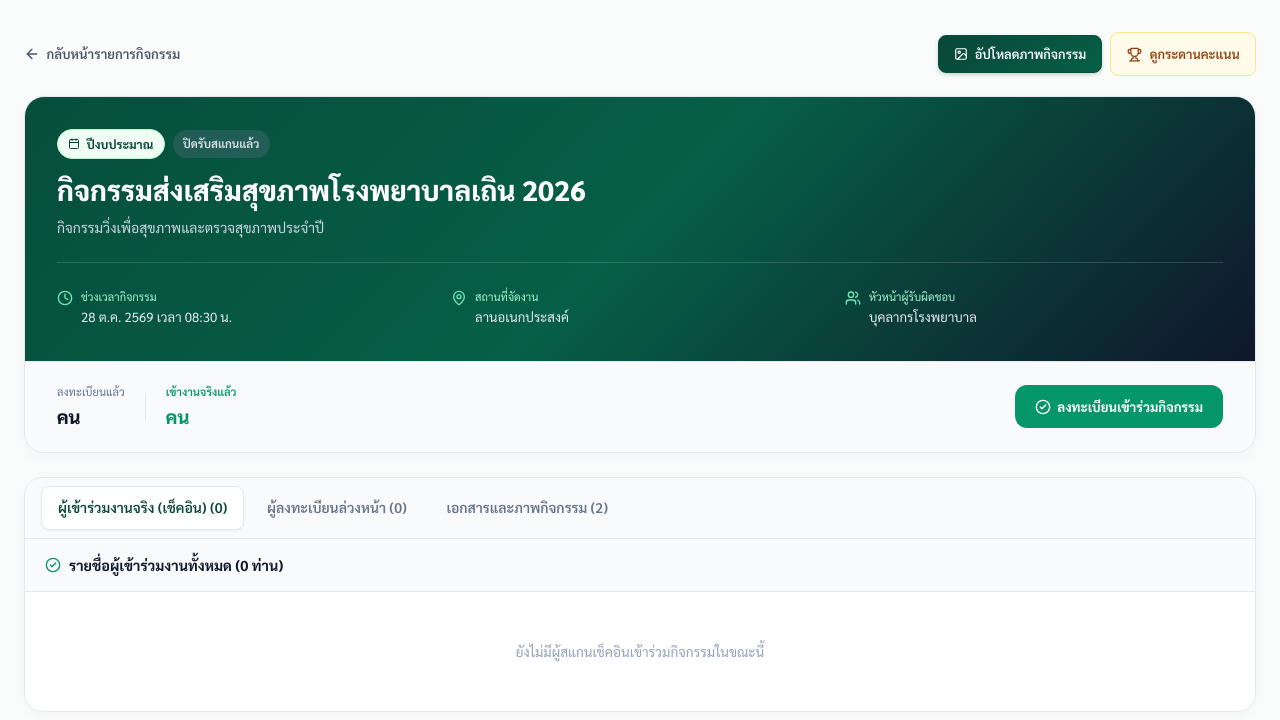
it: EventDetailClient - Member Photo Upload & Permissions › allows regular member to delete only their own uploaded photo
The width and height of the screenshot is (1280, 720).
# Switch to attachments tab
Click the button "เอกสารและภาพกิจกรรม (2)" at [527, 508], box [429,486,625,530]
(page scrolled)
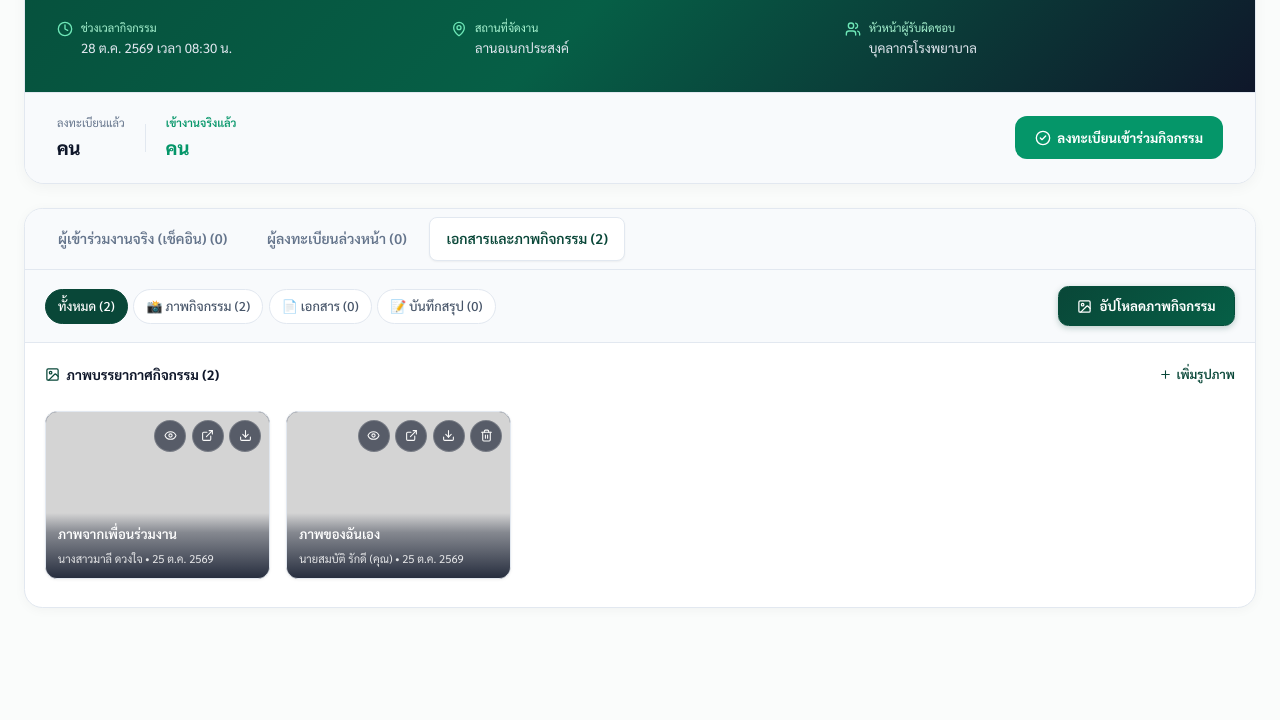
expect the text "ภาพจากเพื่อนร่วมงาน" is shown: met, box [58,526,177,542]
expect the text "ภาพของฉันเอง" is shown: met, box [299,526,380,542]
expect the number of buttons titled "ลบรูปภาพ" is 1: met, box [470,420,502,452]
